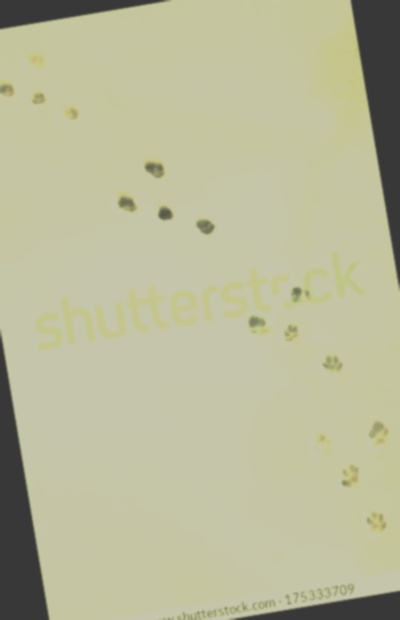lapin: (133, 140, 241, 250), (34, 20, 126, 111), (340, 443, 370, 480), (287, 298, 322, 325), (286, 446, 316, 477), (327, 533, 354, 562), (245, 321, 270, 352), (311, 370, 335, 400), (274, 332, 300, 358), (310, 485, 335, 511)
